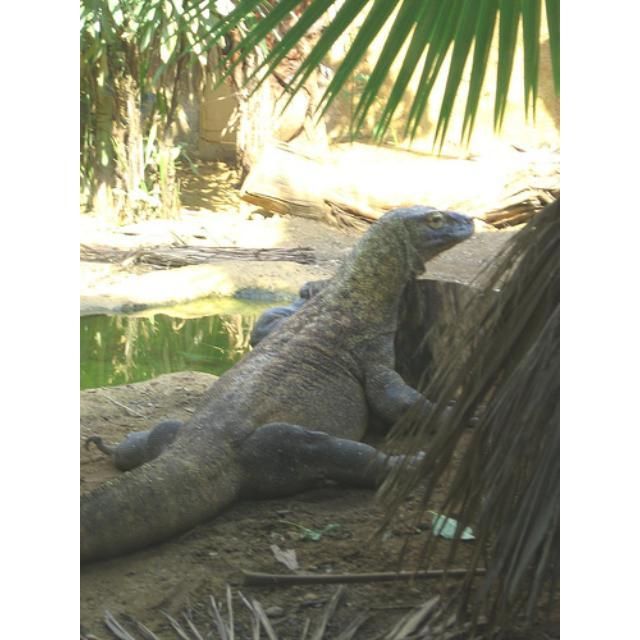KomodoDragon: (80, 200, 472, 563)
